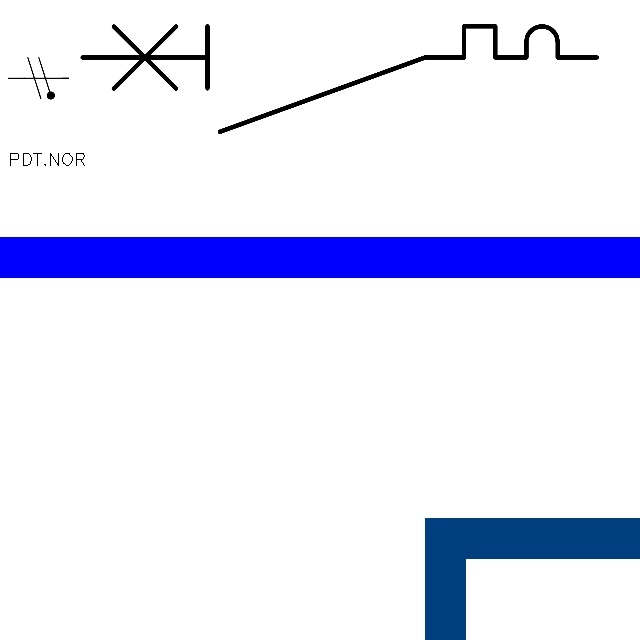interruptor_termomagnetico: (69, 13, 610, 145)
